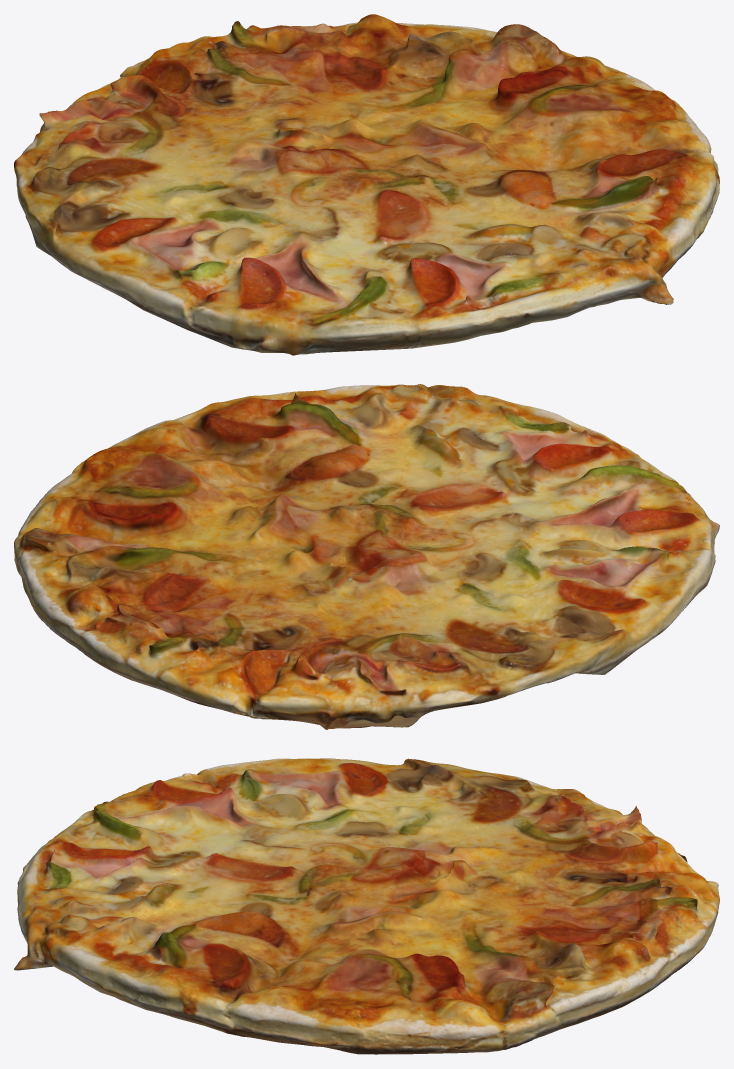
File: plato12.glb
3 renders of one model, top to bottom at view 1: azimuth 30°, elevation 25°; view 2: azimuth 150°, elevation 25°; view 3: azimuth 270°, elevation 25°, orthographic. The views are drawn at different scales.
Visible parts, largest first — view 1: 3DModel; view 2: 3DModel; view 3: 3DModel.
Boxes of the visible parts, <box> form: 3DModel: <box>14,14,719,355</box>; 3DModel: <box>14,384,719,729</box>; 3DModel: <box>14,758,719,1054</box>.
Bounding box in the file's own units: 0.911 × 0.1025 × 0.9641.
Materials: 1 (1 with a texture image).
